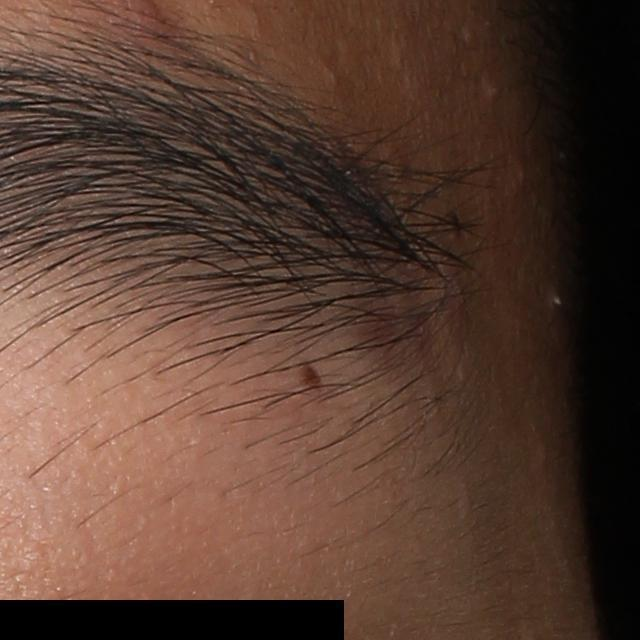nevus: (299, 357, 326, 394)
